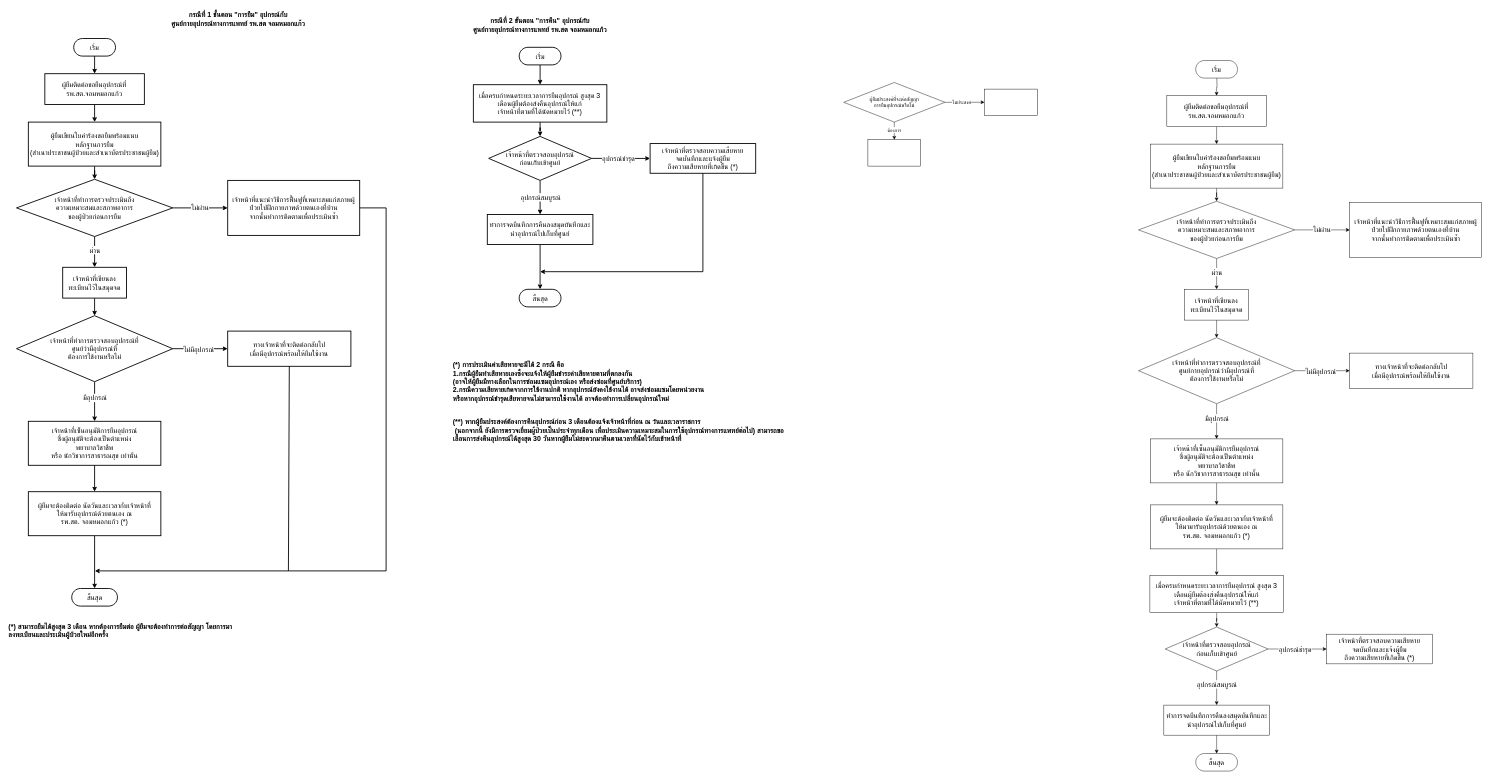
This 1489x779 diagram has some shape labels left out. Each missing label, with the box of its shape:
ผู้ยืมทำการลงทะเบียนการยืมใหม่อีกรอบ: (867, 139, 921, 166)
ผู้ยืมสามารถนำอุปกรณ์ไปคืนเจ้าหน้าที่ ณ รพ.สต. จอมหมอกแก้ว: (984, 89, 1037, 116)
